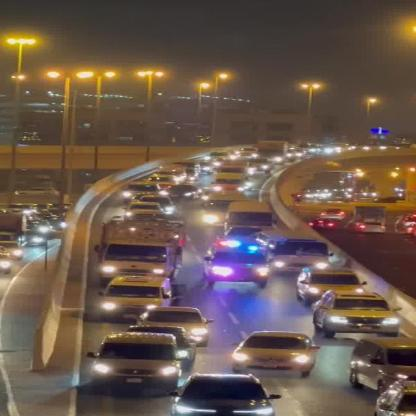car: (89, 328, 182, 400), (307, 286, 407, 340), (228, 326, 316, 382)
priority: (201, 238, 275, 291)
